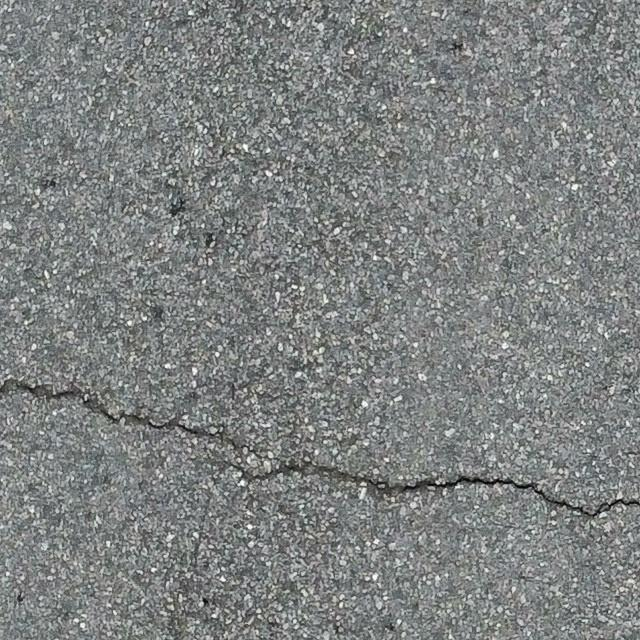TransverseCrack: (1, 377, 640, 518)
